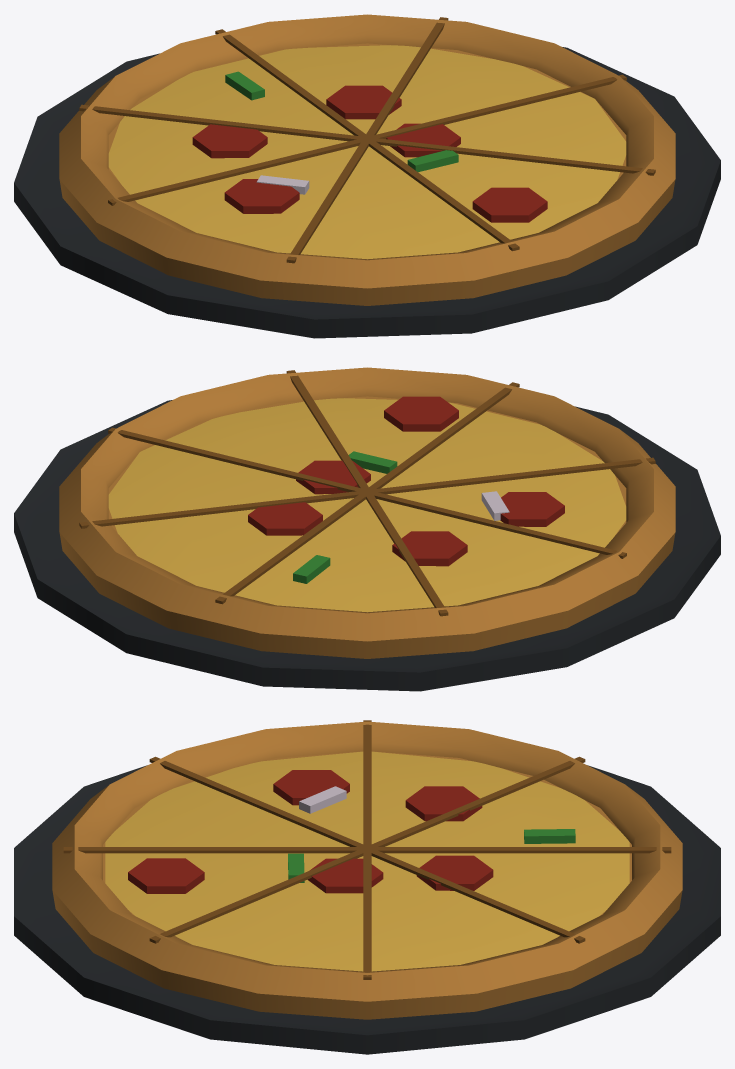
Rendered from pizza-tray.glb.
3 views of the same model, one above another, from view 1: azimuth 30°, elevation 25°; view 2: azimuth 150°, elevation 25°; view 3: azimuth 270°, elevation 25° (orthographic). The views are drawn at different scales.
Visible parts, largest first — view 1: BODY; view 2: BODY; view 3: BODY.
Boxes of the visible parts, left/top/right/bottom form: BODY: left=14, top=14, right=720, bottom=338; BODY: left=14, top=367, right=720, bottom=691; BODY: left=14, top=720, right=720, bottom=1054.
Bounding box in the file's own units: 0.34 × 0.028 × 0.3315.
